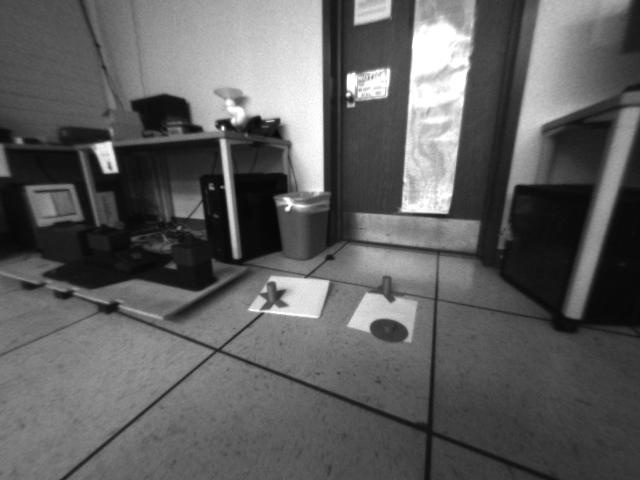X: (368, 274, 402, 301), (259, 280, 289, 310)
